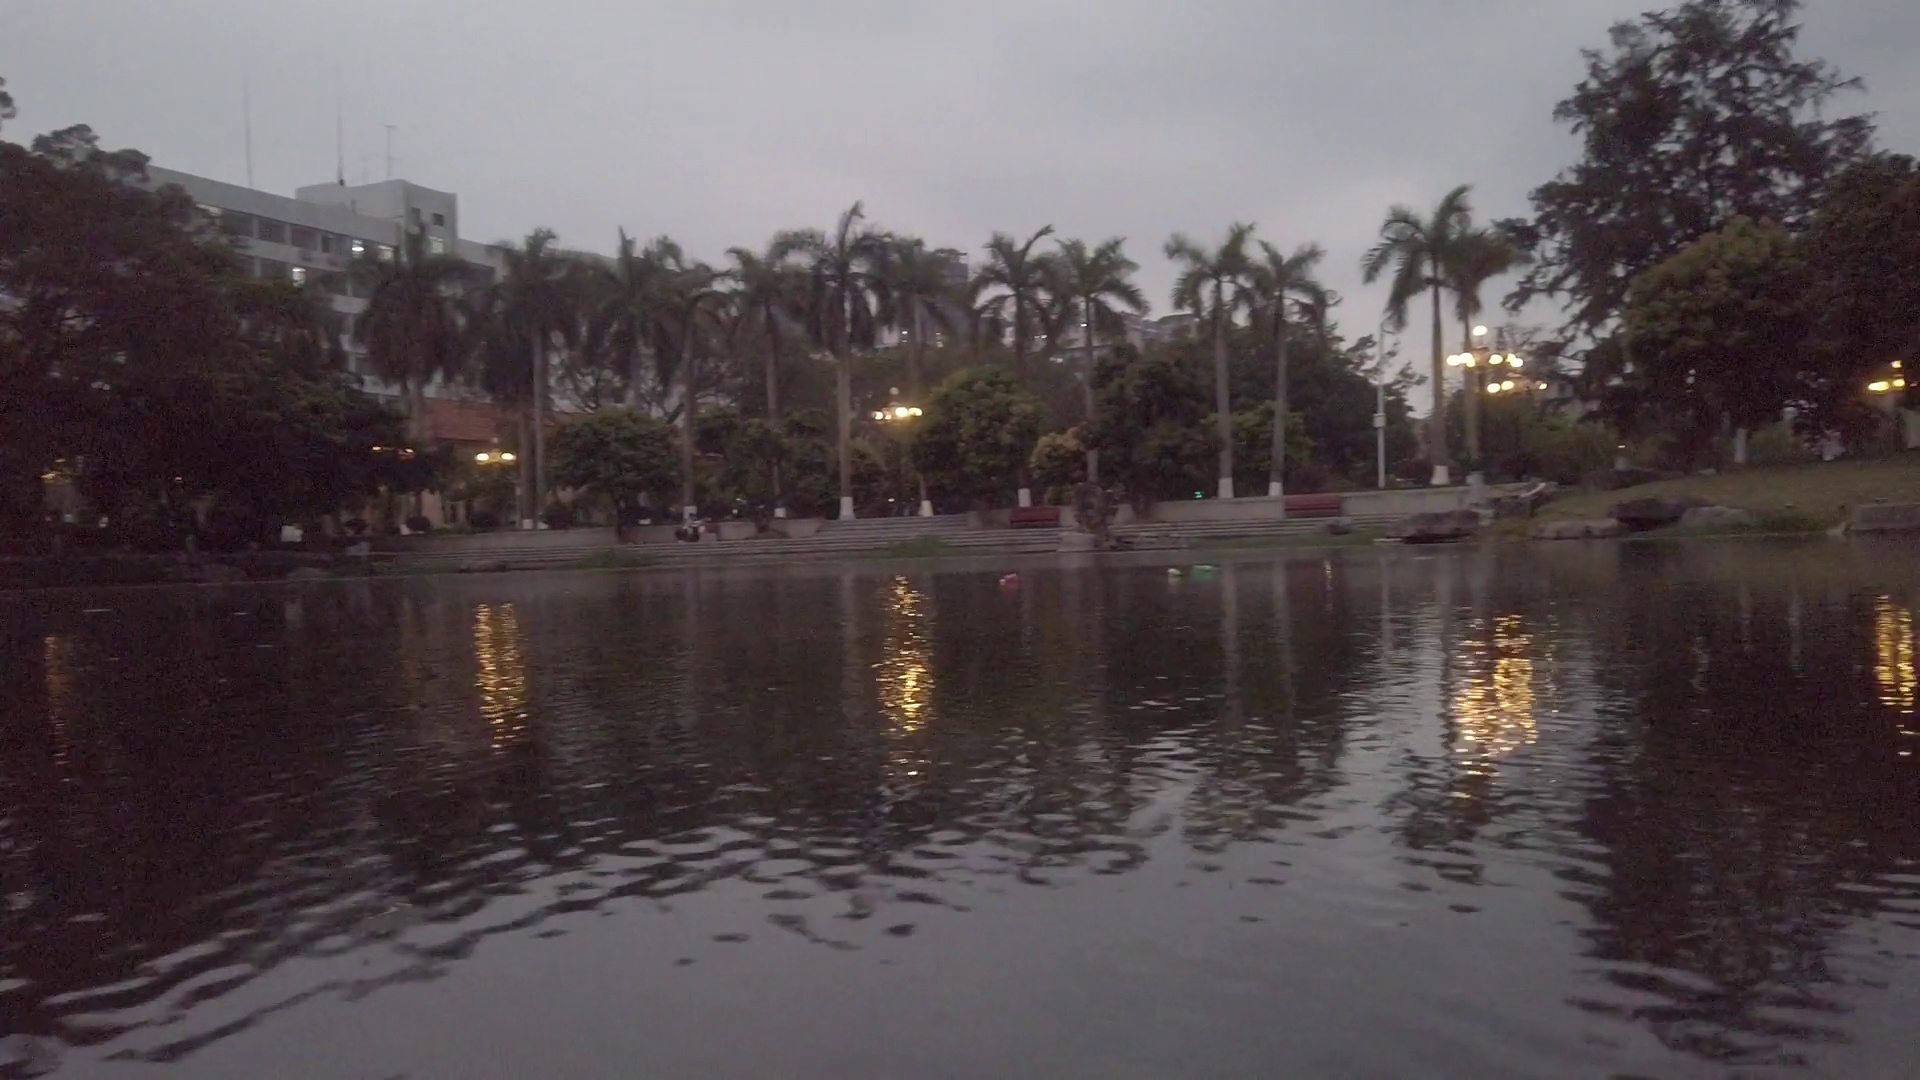bottle: (1193, 562, 1218, 574), (1000, 574, 1018, 585), (1168, 566, 1183, 578)
